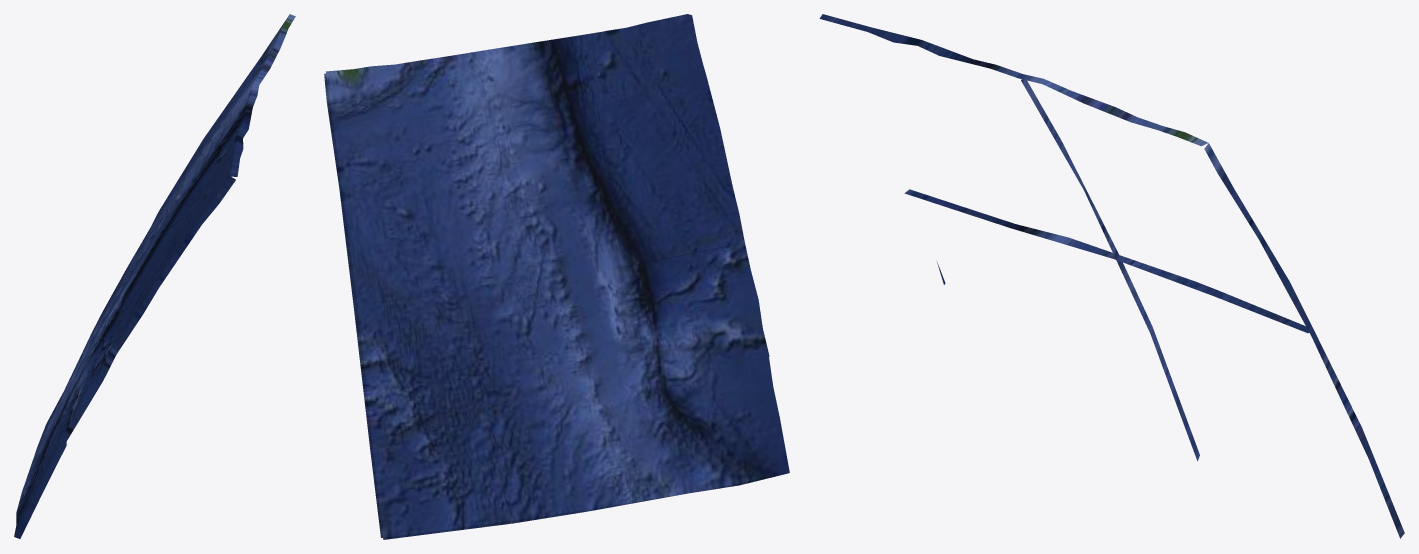
3 views of the same model, side by side, from view 1: azimuth 30°, elevation 25°; view 2: azimuth 150°, elevation 25°; view 3: azimuth 270°, elevation 25° (orthographic). The views are drawn at different scales.
Bounding box in the file's own units: 1159488 × 1121395 × 1240035.
1 material, 1 textured.
